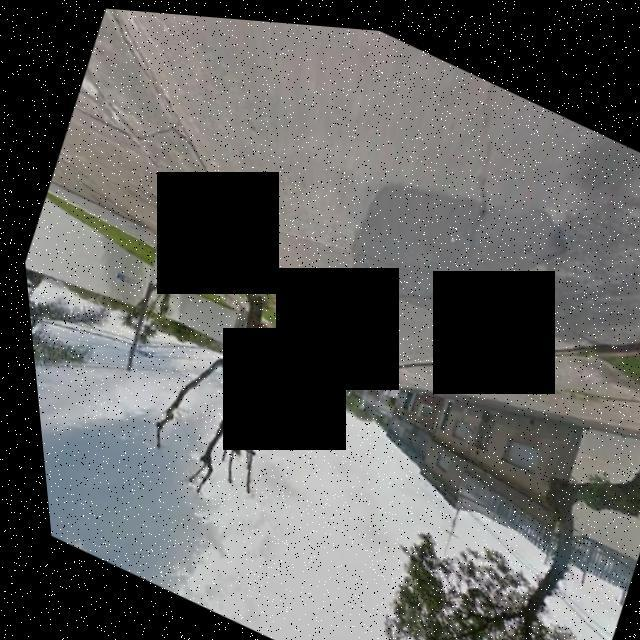bin: (277, 316, 315, 355)
